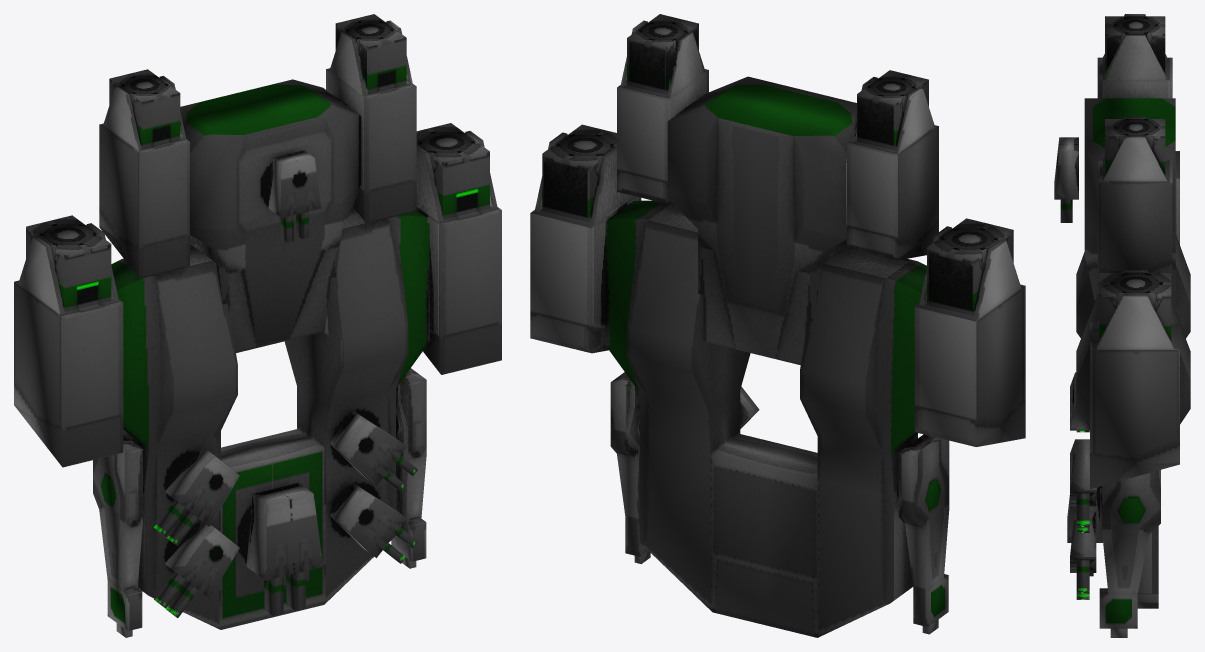
The model's file is green_spaceship_01.fbx.
The picture shows the model from 3 angles, left to right: view 1: azimuth 30°, elevation 25°; view 2: azimuth 150°, elevation 25°; view 3: azimuth 270°, elevation 25°; orthographic projection. The views are drawn at different scales.
Visible parts, largest first — view 1: UnionCruiserMod; view 2: UnionCruiserMod; view 3: UnionCruiserMod.
Boxes of the visible parts, left/top/right/bottom form: UnionCruiserMod: left=14, top=14, right=501, bottom=637; UnionCruiserMod: left=530, top=14, right=1025, bottom=637; UnionCruiserMod: left=1054, top=14, right=1190, bottom=637.
Size of the model in its own units: 2049 by 593 by 2445.
